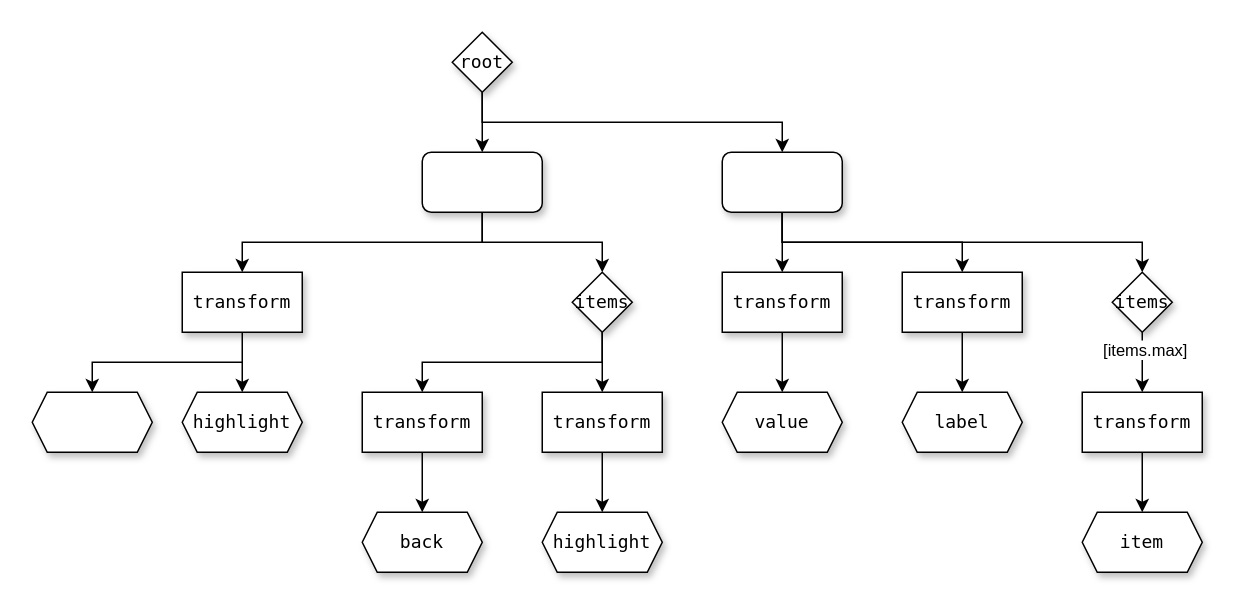
Some shapes in this 1238 by 609 pixel diagram are drawn without their labels. The centre of each missing label's shape, as x and y in pixels:
"box" belongs at point (93, 424).
"text" belongs at point (783, 184).
"widget" belongs at point (483, 184).
